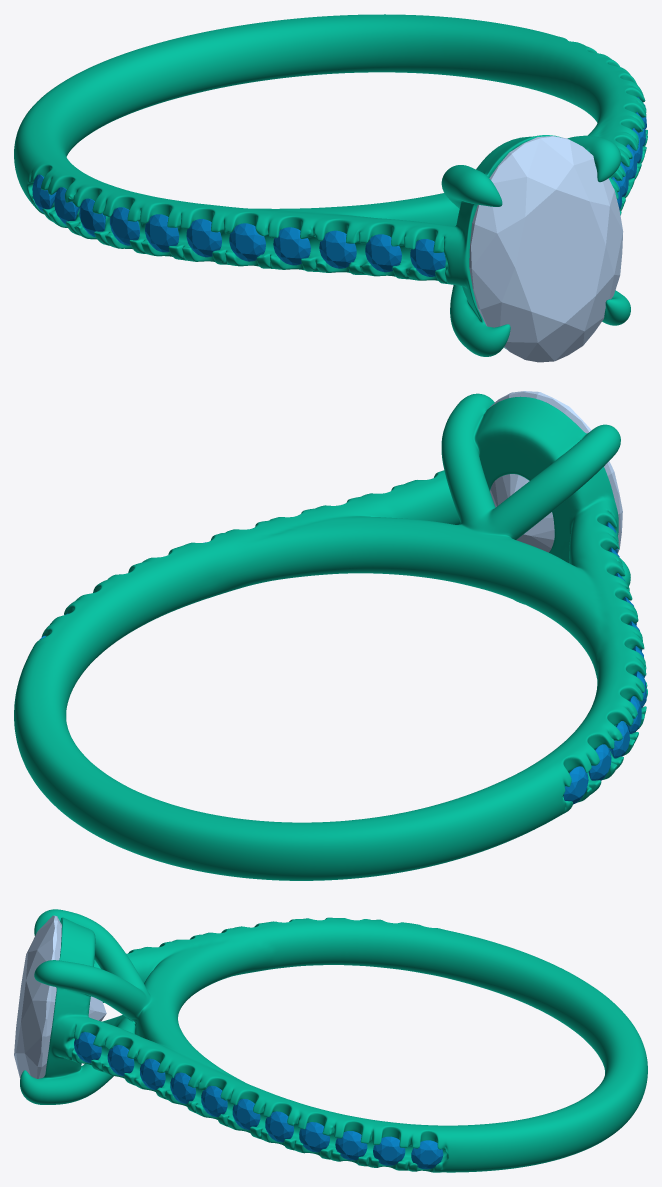
3 renders of one model, top to bottom at view 1: azimuth 30°, elevation 25°; view 2: azimuth 150°, elevation 25°; view 3: azimuth 270°, elevation 25°, orthographic. The views are drawn at different scales.
Visible parts, largest first — view 1: for render.3dm, Diamond_Oval, Diamond_Round (×11); view 2: for render.3dm, Diamond_Oval; view 3: for render.3dm, Diamond_Round (×11), Diamond_Oval.
Part boxes in pixels (x1,y1,x2,y2): for render.3dm: (14,14,647,356); Diamond_Oval: (469,136,623,362); Diamond_Round (×11): (32,174,445,276); for render.3dm: (14,393,647,880); Diamond_Oval: (489,391,622,553); for render.3dm: (20,909,647,1172); Diamond_Round (×11): (74,1032,443,1169); Diamond_Oval: (14,915,106,1078).
Size of the model in its own units: 2.45 by 0.9081 by 3.03.
